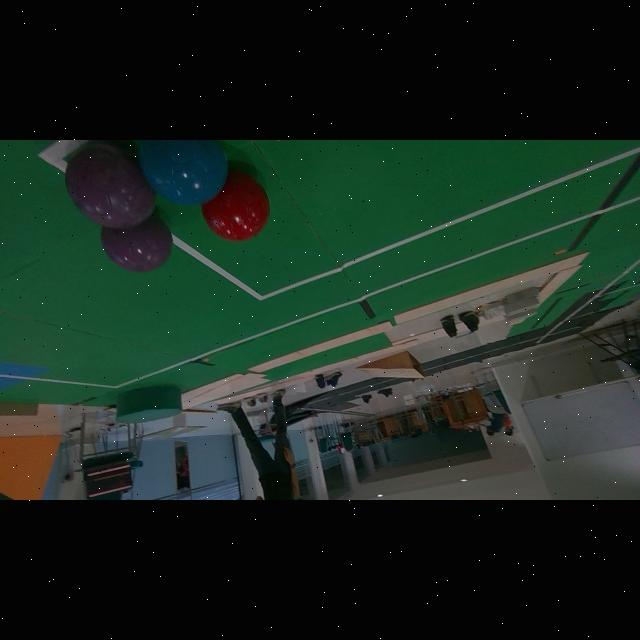B: (139, 140, 228, 205)
P: (66, 141, 156, 228), (102, 214, 173, 272)
R: (202, 170, 269, 241)
